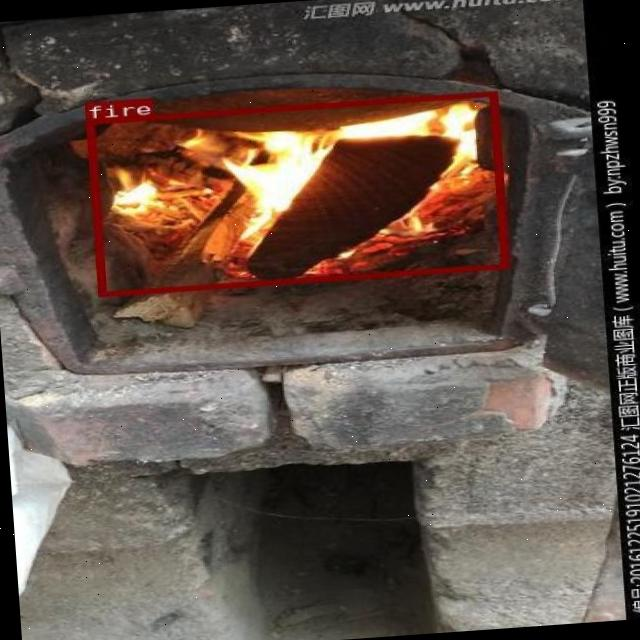fire: (86, 90, 507, 296)
